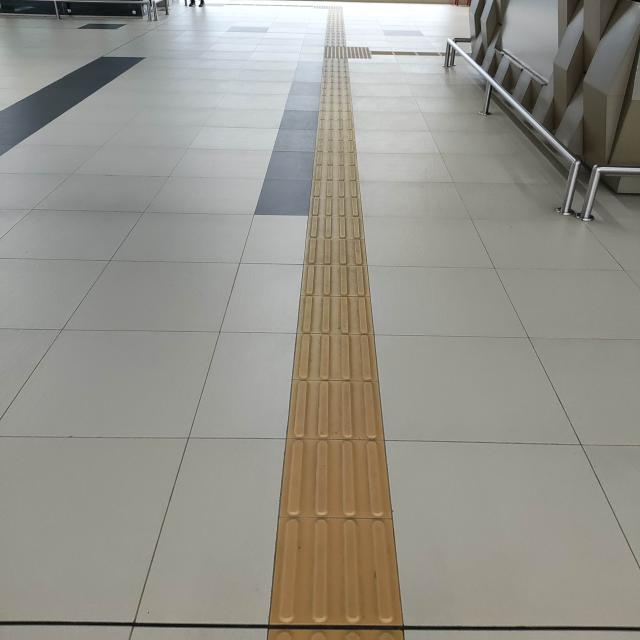lurus: (267, 61, 398, 640)
